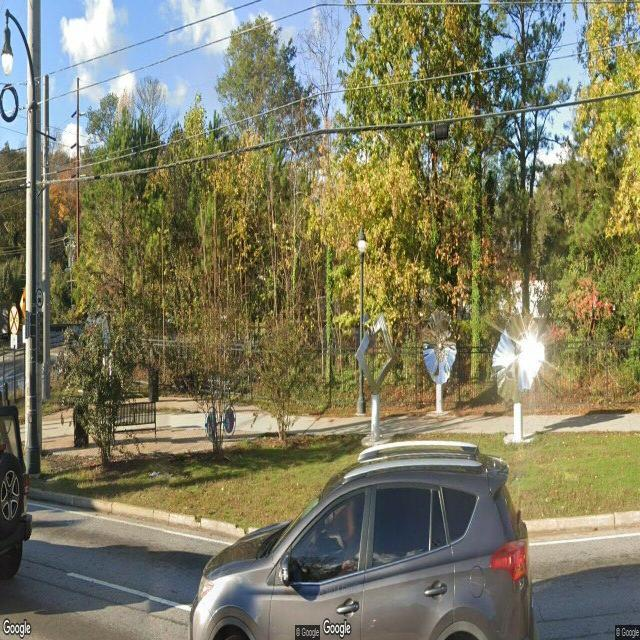seating: (109, 401, 158, 445), (200, 378, 232, 406)
trash_can: (73, 395, 89, 447), (148, 368, 160, 402)
